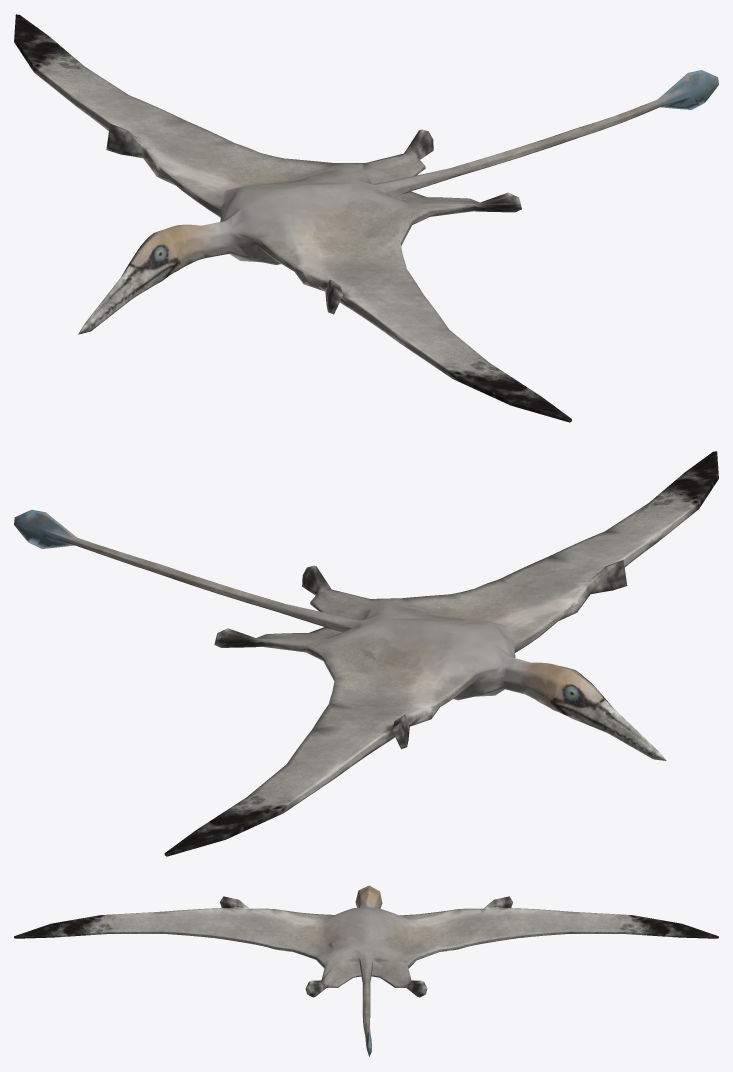
File: nature-rhamphorhynchus.glb
3 renders of one model, top to bottom at view 1: azimuth 30°, elevation 25°; view 2: azimuth 150°, elevation 25°; view 3: azimuth 270°, elevation 25°, orthographic. The views are drawn at different scales.
Parts seen in each view (by area): view 1: Animal; view 2: Animal; view 3: Animal.
Boxes of the visible parts, x1=… form: Animal: x1=14, y1=14, x2=718, y2=422; Animal: x1=14, y1=451, x2=718, y2=856; Animal: x1=14, y1=885, x2=718, y2=1056.
Bounding box in the file's own units: 2.16 × 0.3363 × 3.2.
Materials: 1 (1 with a texture image).
